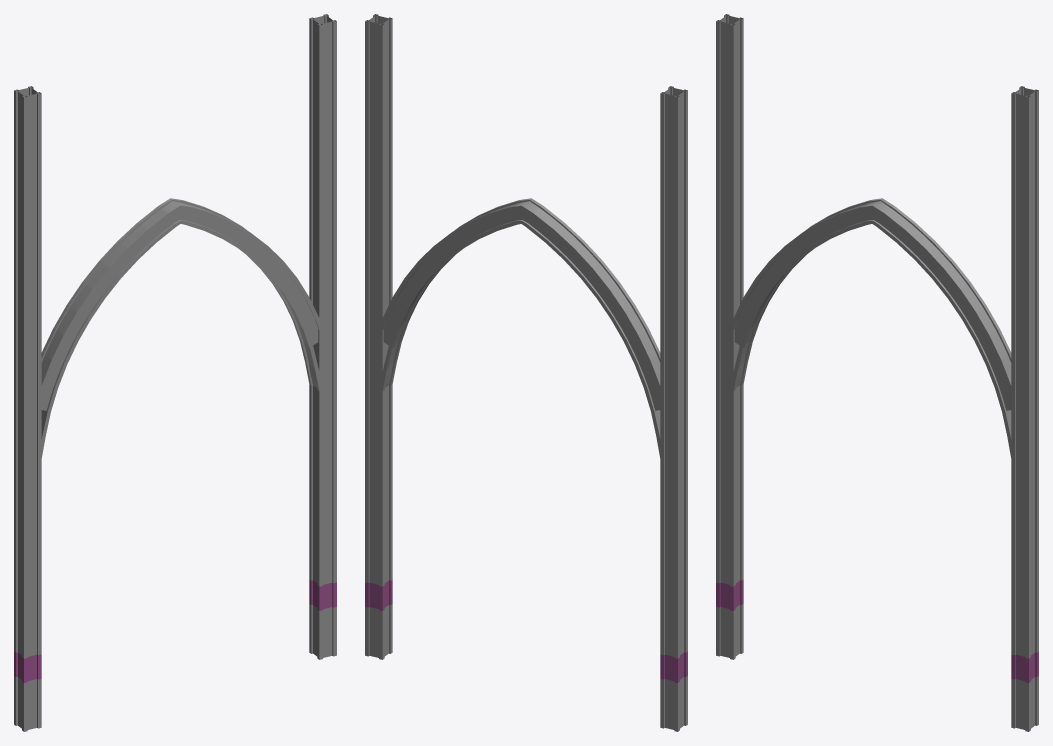
Rendered from model_large_metal_scaffolding_isolated_malia.fbx.
The picture shows the model from 3 angles, left to right: view 1: azimuth 30°, elevation 25°; view 2: azimuth 150°, elevation 25°; view 3: azimuth 330°, elevation 25°; orthographic projection.
Visible parts, largest first — view 1: LargeMetalArches; view 2: LargeMetalArches; view 3: LargeMetalArches.
Part boxes in pixels (<box>): LargeMetalArches: <box>14,14,336,731</box>; LargeMetalArches: <box>365,14,687,731</box>; LargeMetalArches: <box>716,14,1038,731</box>.
Bounding box in the file's own units: 1056 × 2047 × 59.06.
